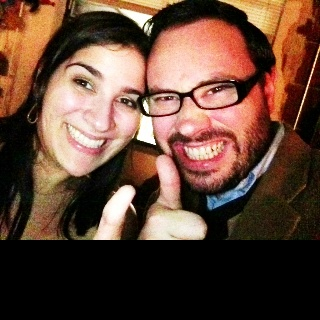without_mask: (146, 25, 270, 194)
